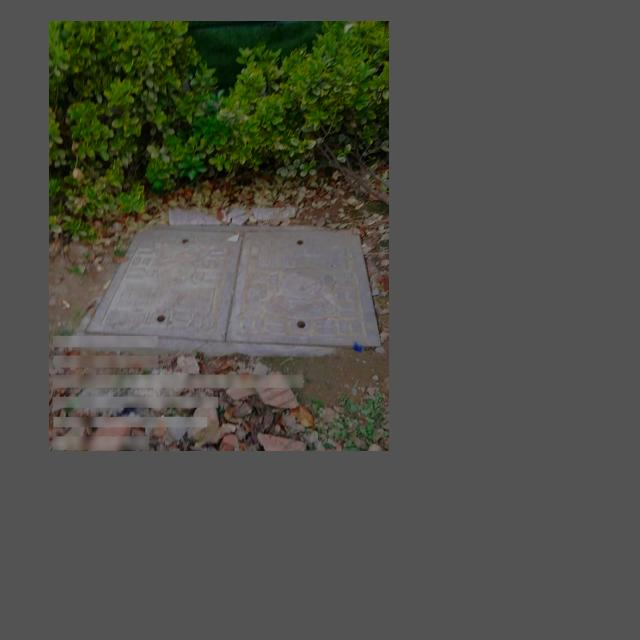good: (82, 225, 382, 346)
